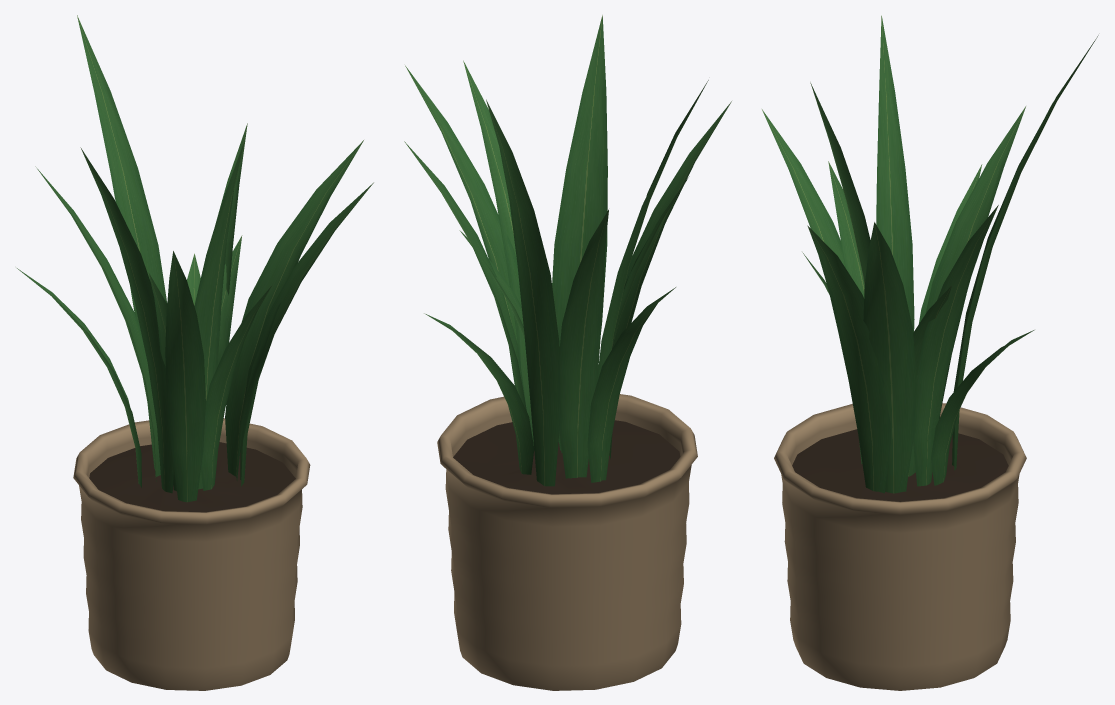
The model's file is decor_c_plant_snake_basket.gltf.
The picture shows the model from 3 angles, left to right: view 1: azimuth 30°, elevation 25°; view 2: azimuth 150°, elevation 25°; view 3: azimuth 270°, elevation 25°; orthographic projection. The views are drawn at different scales.
Parts seen in each view (by area): view 1: DecorC_PlantSnakeBasket_Wicker, DecorC_PlantSnakeBasket_Leaf_NoCollide, DecorC_PlantSnakeBasket_Soil_NoCollide; view 2: DecorC_PlantSnakeBasket_Wicker, DecorC_PlantSnakeBasket_Leaf_NoCollide, DecorC_PlantSnakeBasket_Soil_NoCollide; view 3: DecorC_PlantSnakeBasket_Wicker, DecorC_PlantSnakeBasket_Leaf_NoCollide, DecorC_PlantSnakeBasket_Soil_NoCollide.
Part boxes in pixels (x1=…): DecorC_PlantSnakeBasket_Wicker: x1=73, y1=418, x2=310, y2=690; DecorC_PlantSnakeBasket_Leaf_NoCollide: x1=17, y1=15, x2=373, y2=502; DecorC_PlantSnakeBasket_Soil_NoCollide: x1=89, y1=442, x2=295, y2=512; DecorC_PlantSnakeBasket_Wicker: x1=437, y1=394, x2=697, y2=690; DecorC_PlantSnakeBasket_Leaf_NoCollide: x1=404, y1=15, x2=731, y2=486; DecorC_PlantSnakeBasket_Soil_NoCollide: x1=453, y1=420, x2=680, y2=494; DecorC_PlantSnakeBasket_Wicker: x1=774, y1=403, x2=1026, y2=690; DecorC_PlantSnakeBasket_Leaf_NoCollide: x1=762, y1=15, x2=1098, y2=493; DecorC_PlantSnakeBasket_Soil_NoCollide: x1=792, y1=429, x2=1008, y2=501.
Size of the model in its own units: 0.5844 by 1.06 by 0.5424.
3 materials, 1 textured.
